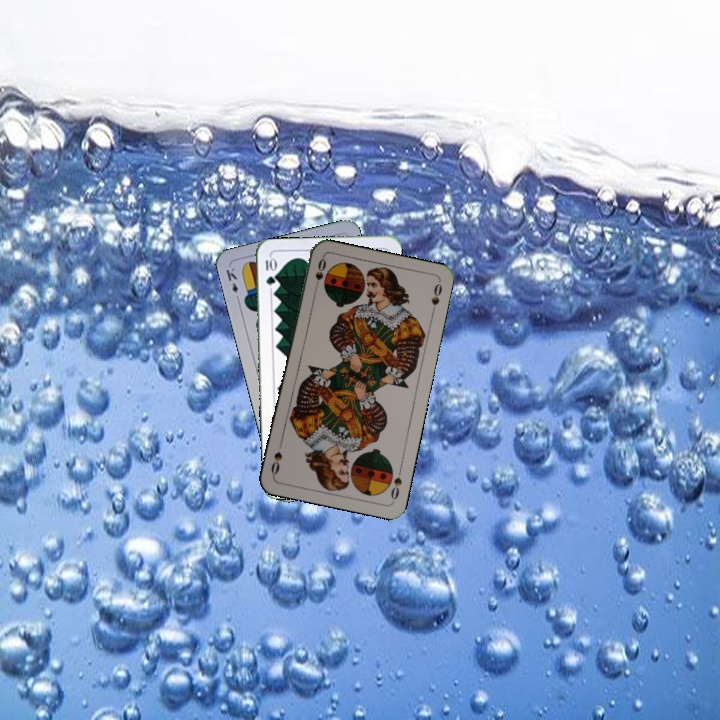EK: (222, 263, 242, 304)
G10: (261, 254, 277, 288)
SO: (310, 254, 329, 294), (387, 463, 404, 502)
